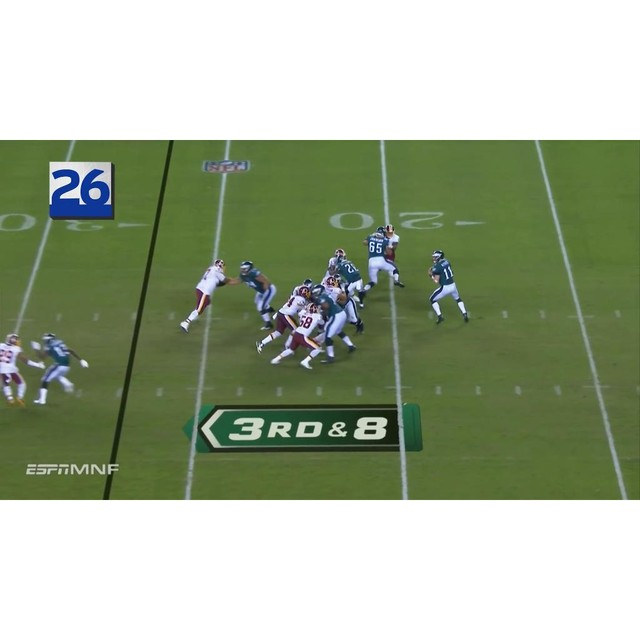american-football-player: (32, 332, 88, 405), (254, 283, 311, 354), (179, 258, 232, 332), (270, 303, 323, 369), (314, 284, 356, 360), (428, 250, 470, 324), (1, 333, 39, 409), (362, 228, 404, 294), (236, 261, 277, 328), (325, 274, 365, 337), (335, 252, 366, 306), (321, 248, 346, 285)
